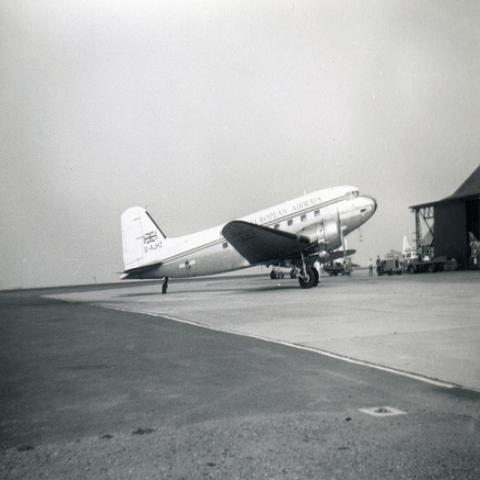car: (404, 257, 430, 274)
